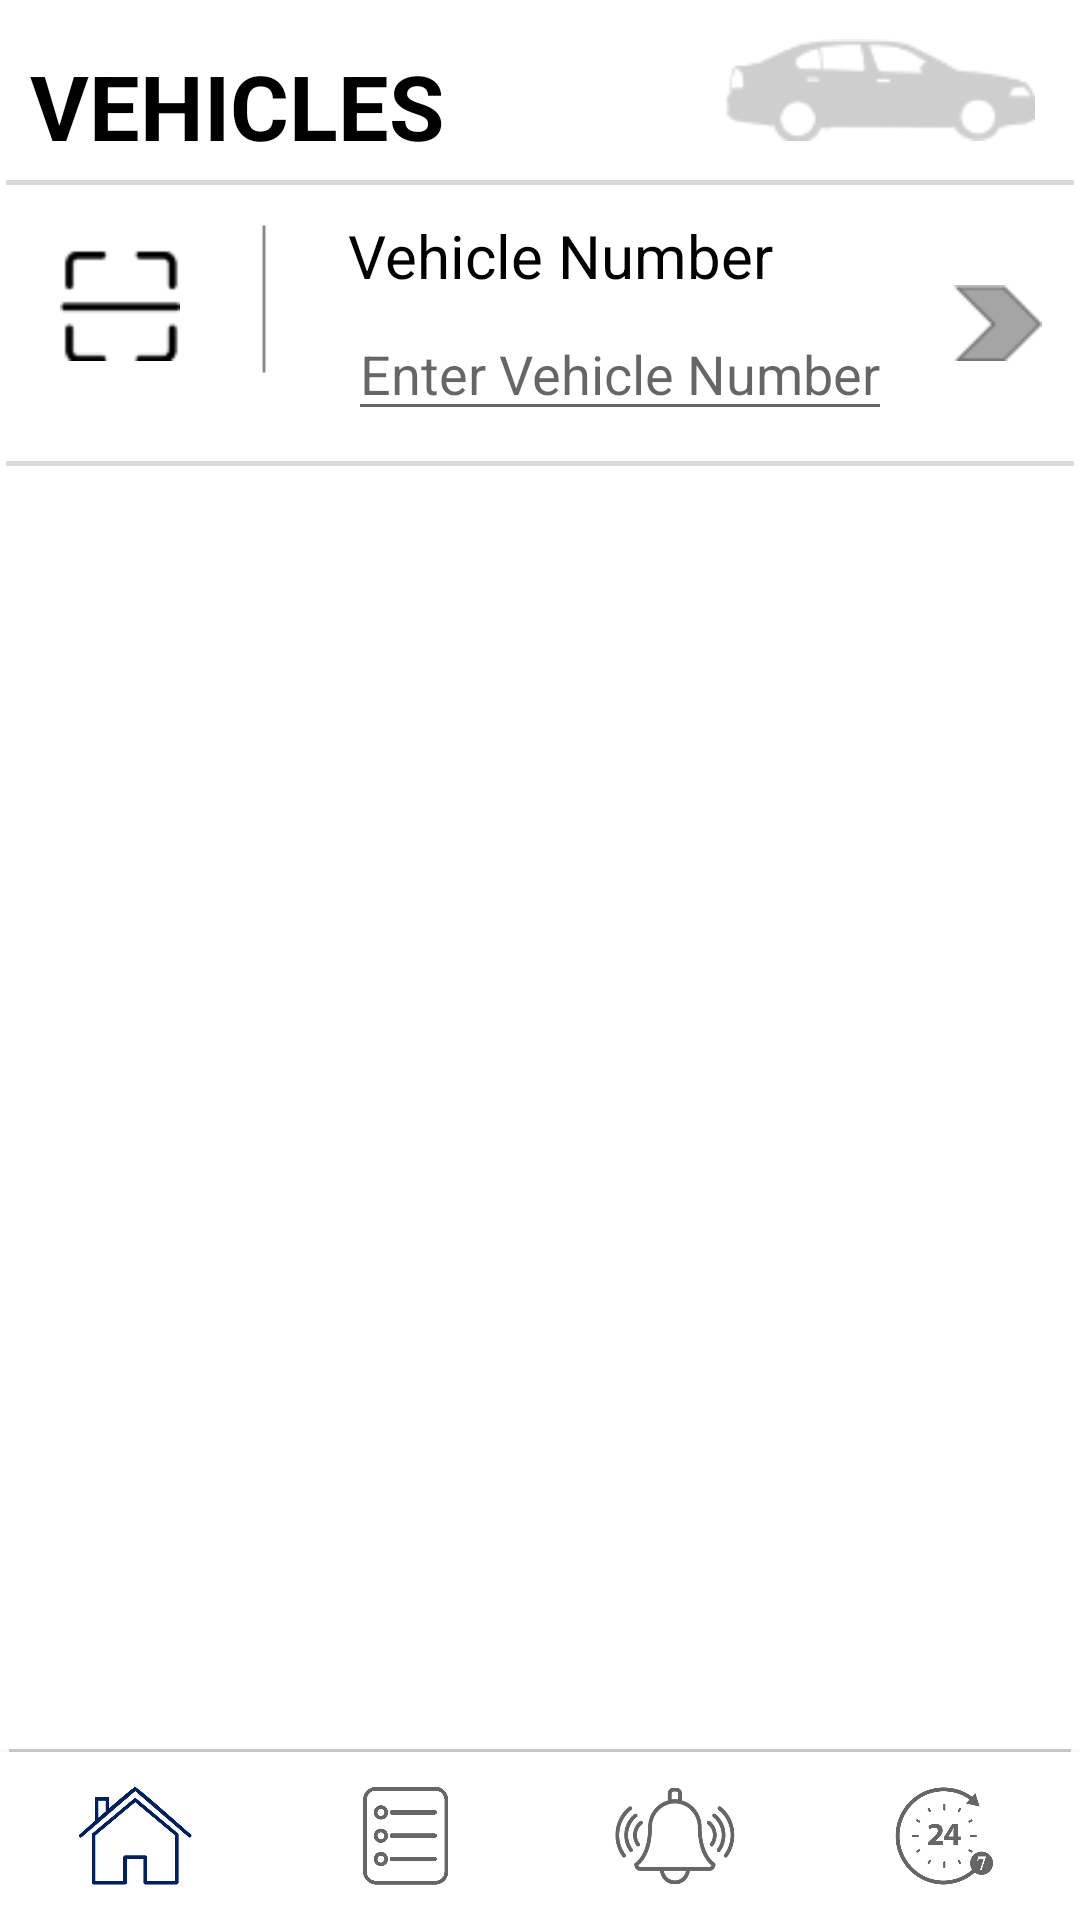

Icons on this 1080×1920 Android screen, each with its box as [left=x1, top=y1, right=x2, bottom=y2]:
arrownew: [left=954, top=285, right=1042, bottom=361]
mycarrrr: [left=727, top=41, right=1035, bottom=141]
